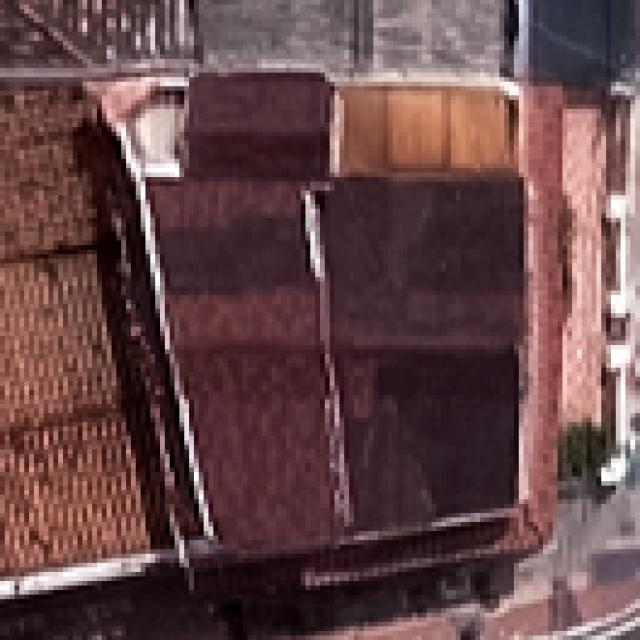Batiment: (1, 84, 174, 573), (318, 179, 522, 528), (150, 181, 334, 546), (186, 74, 331, 178), (1, 0, 194, 74)
